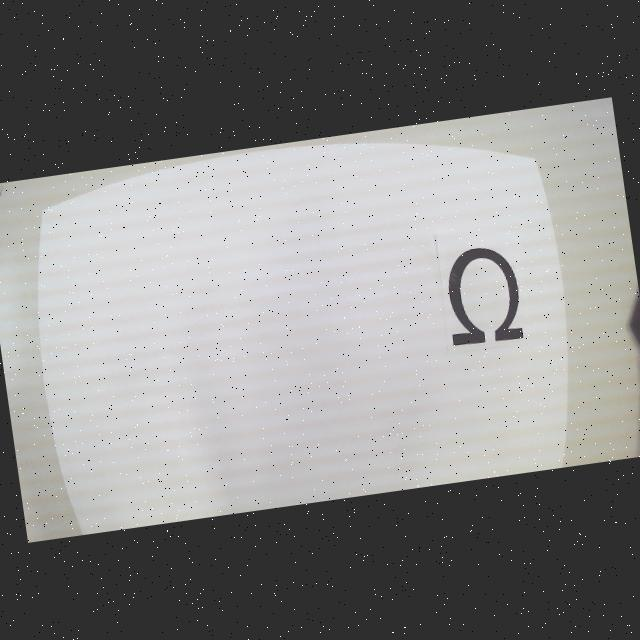OMEGA: (441, 243, 526, 349)
